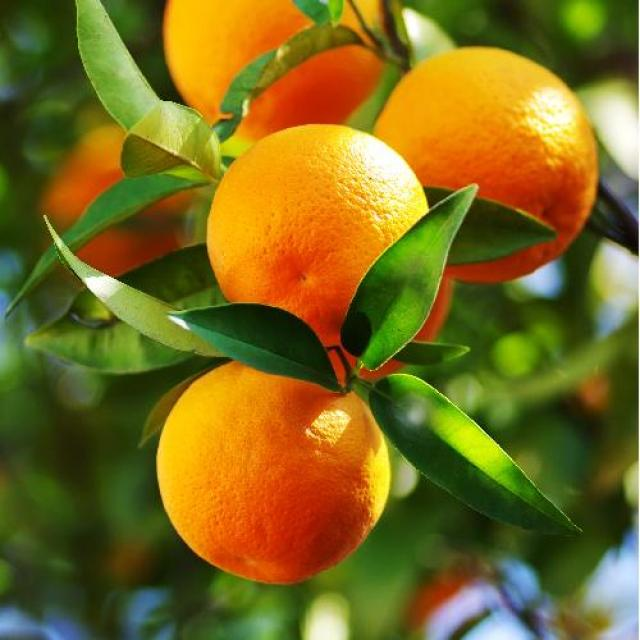Orange: (155, 358, 393, 582), (205, 126, 434, 352), (377, 48, 598, 277)
